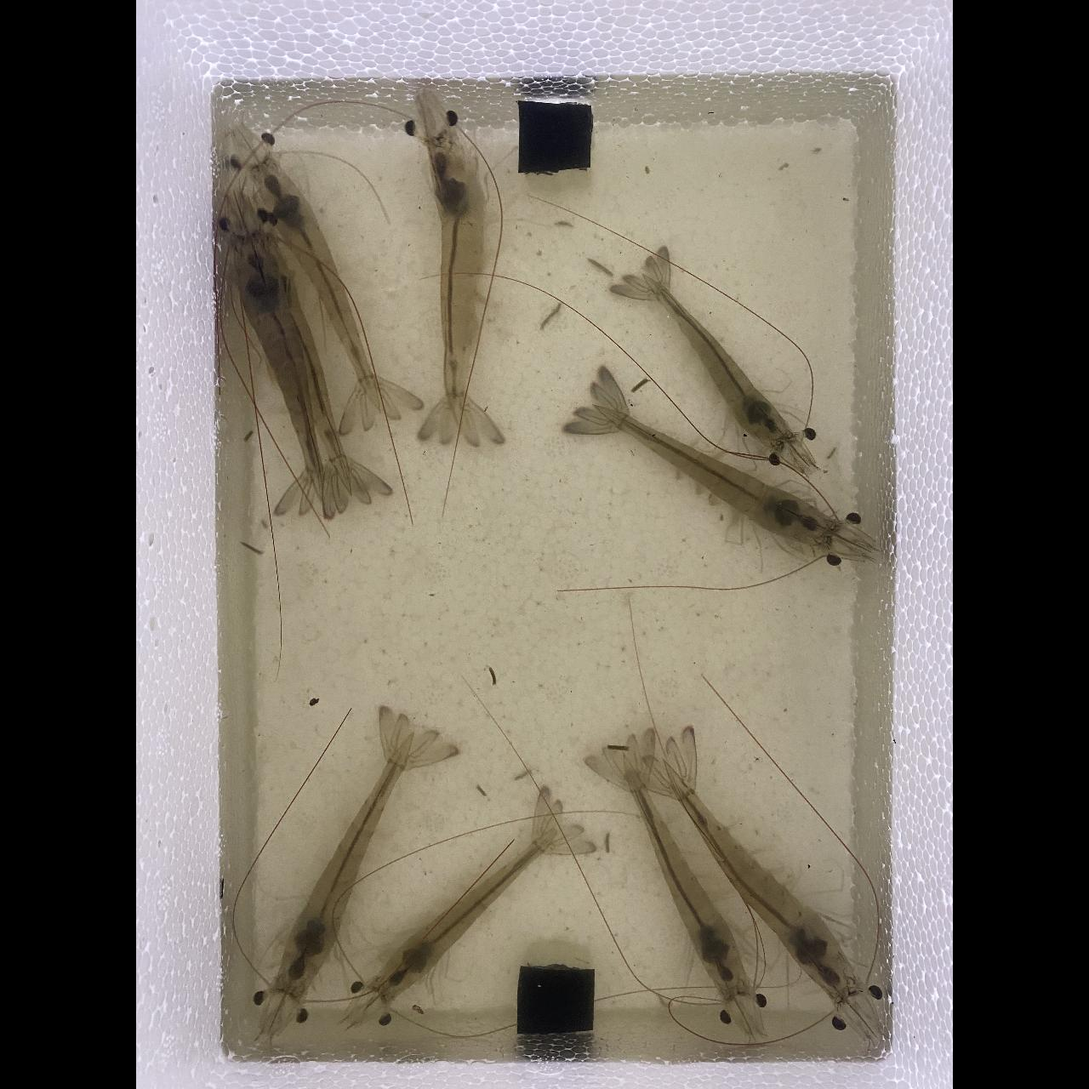box: (519, 99, 590, 174), (519, 965, 594, 1033)
top_shrimp: (660, 759, 849, 994), (277, 732, 412, 992), (250, 160, 379, 405), (628, 754, 752, 1003), (604, 408, 829, 544), (378, 824, 558, 992), (254, 235, 352, 497), (641, 276, 788, 444), (233, 238, 323, 497), (432, 136, 483, 434)
